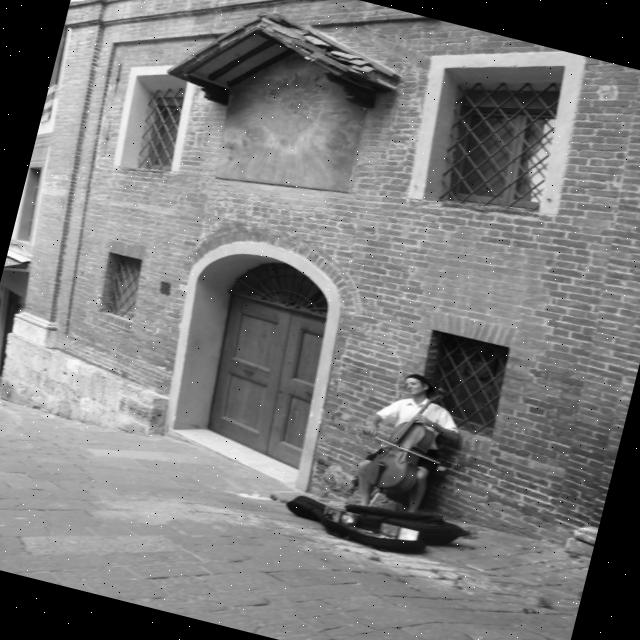cello: (356, 370, 451, 503)
